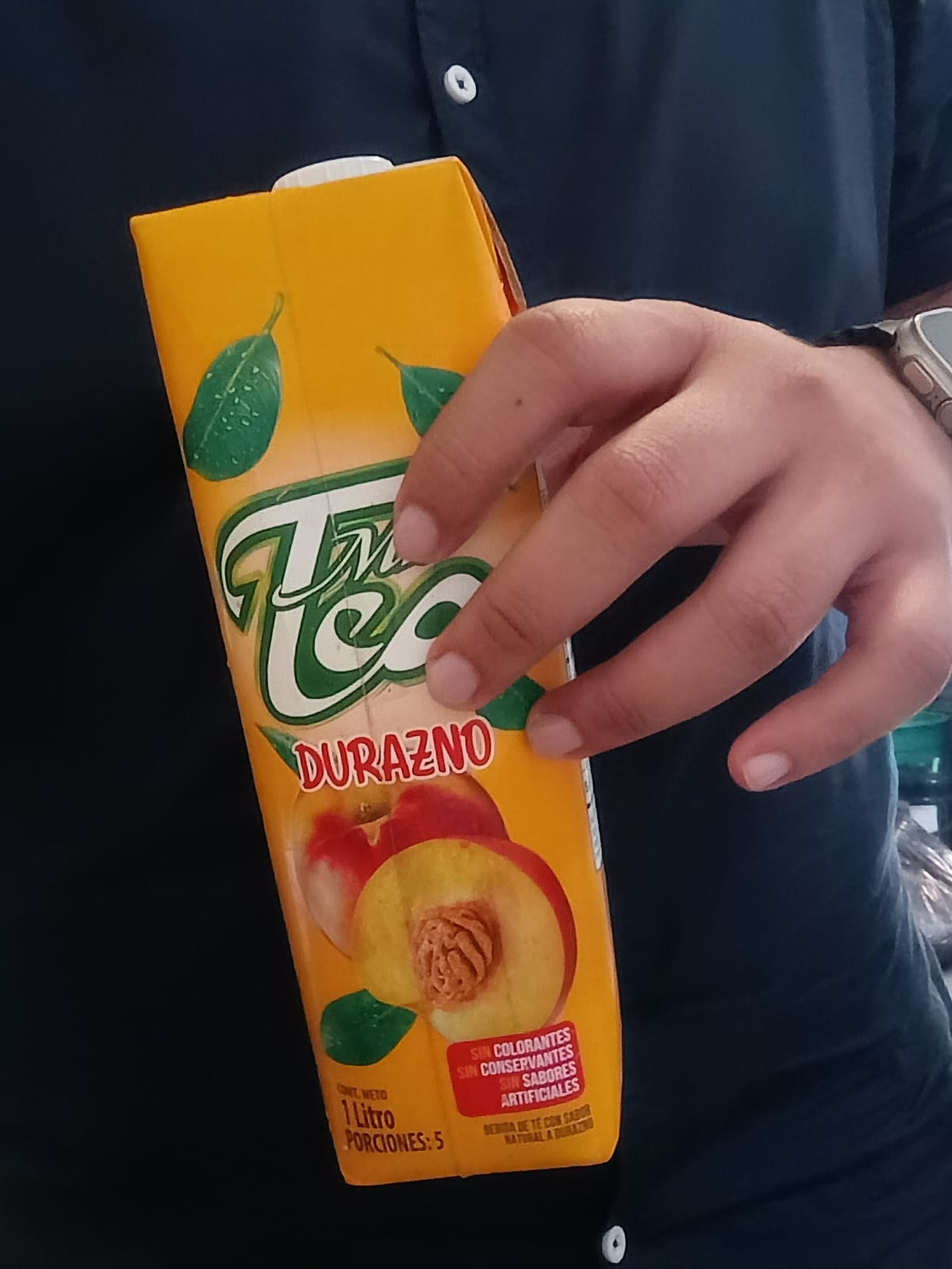Carton: (133, 159, 620, 1186)
